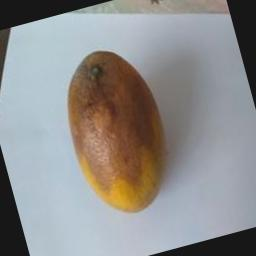Orange Rotten: (46, 35, 190, 234)
